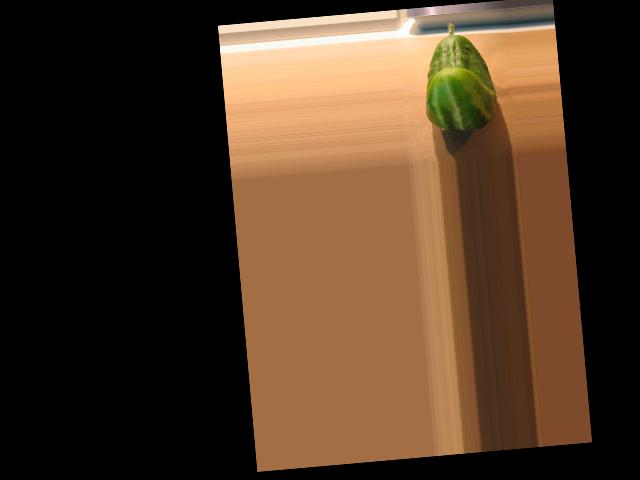cucumber: (417, 19, 498, 134)
